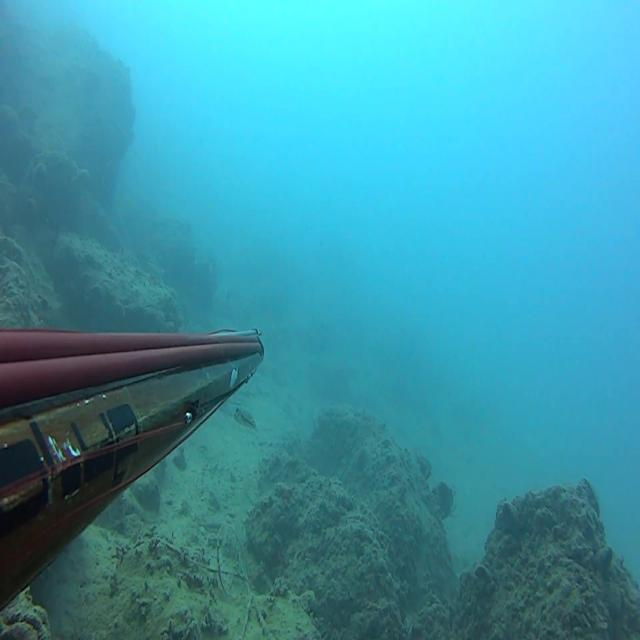Balon Baligi: (234, 407, 259, 432)
